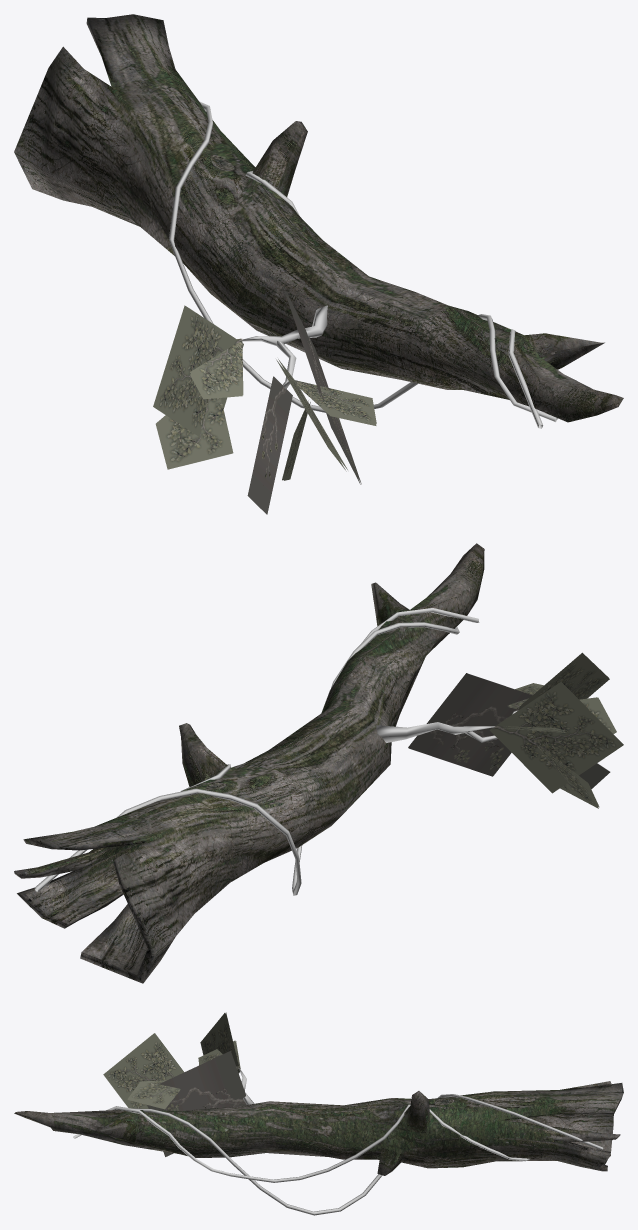
The model's file is Fallen_Tree.fbx.
3 renders of one model, top to bottom at view 1: azimuth 30°, elevation 25°; view 2: azimuth 150°, elevation 25°; view 3: azimuth 270°, elevation 25°, orthographic. The views are drawn at different scales.
Parts seen in each view (by area): view 1: Fallen_Tree; view 2: Fallen_Tree; view 3: Fallen_Tree.
Part boxes in pixels (left/top/right/bottom): Fallen_Tree: left=14, top=14, right=623, bottom=514; Fallen_Tree: left=14, top=543, right=623, bottom=983; Fallen_Tree: left=14, top=1012, right=623, bottom=1215.
Size of the model in its own units: 186 by 108 by 435.
